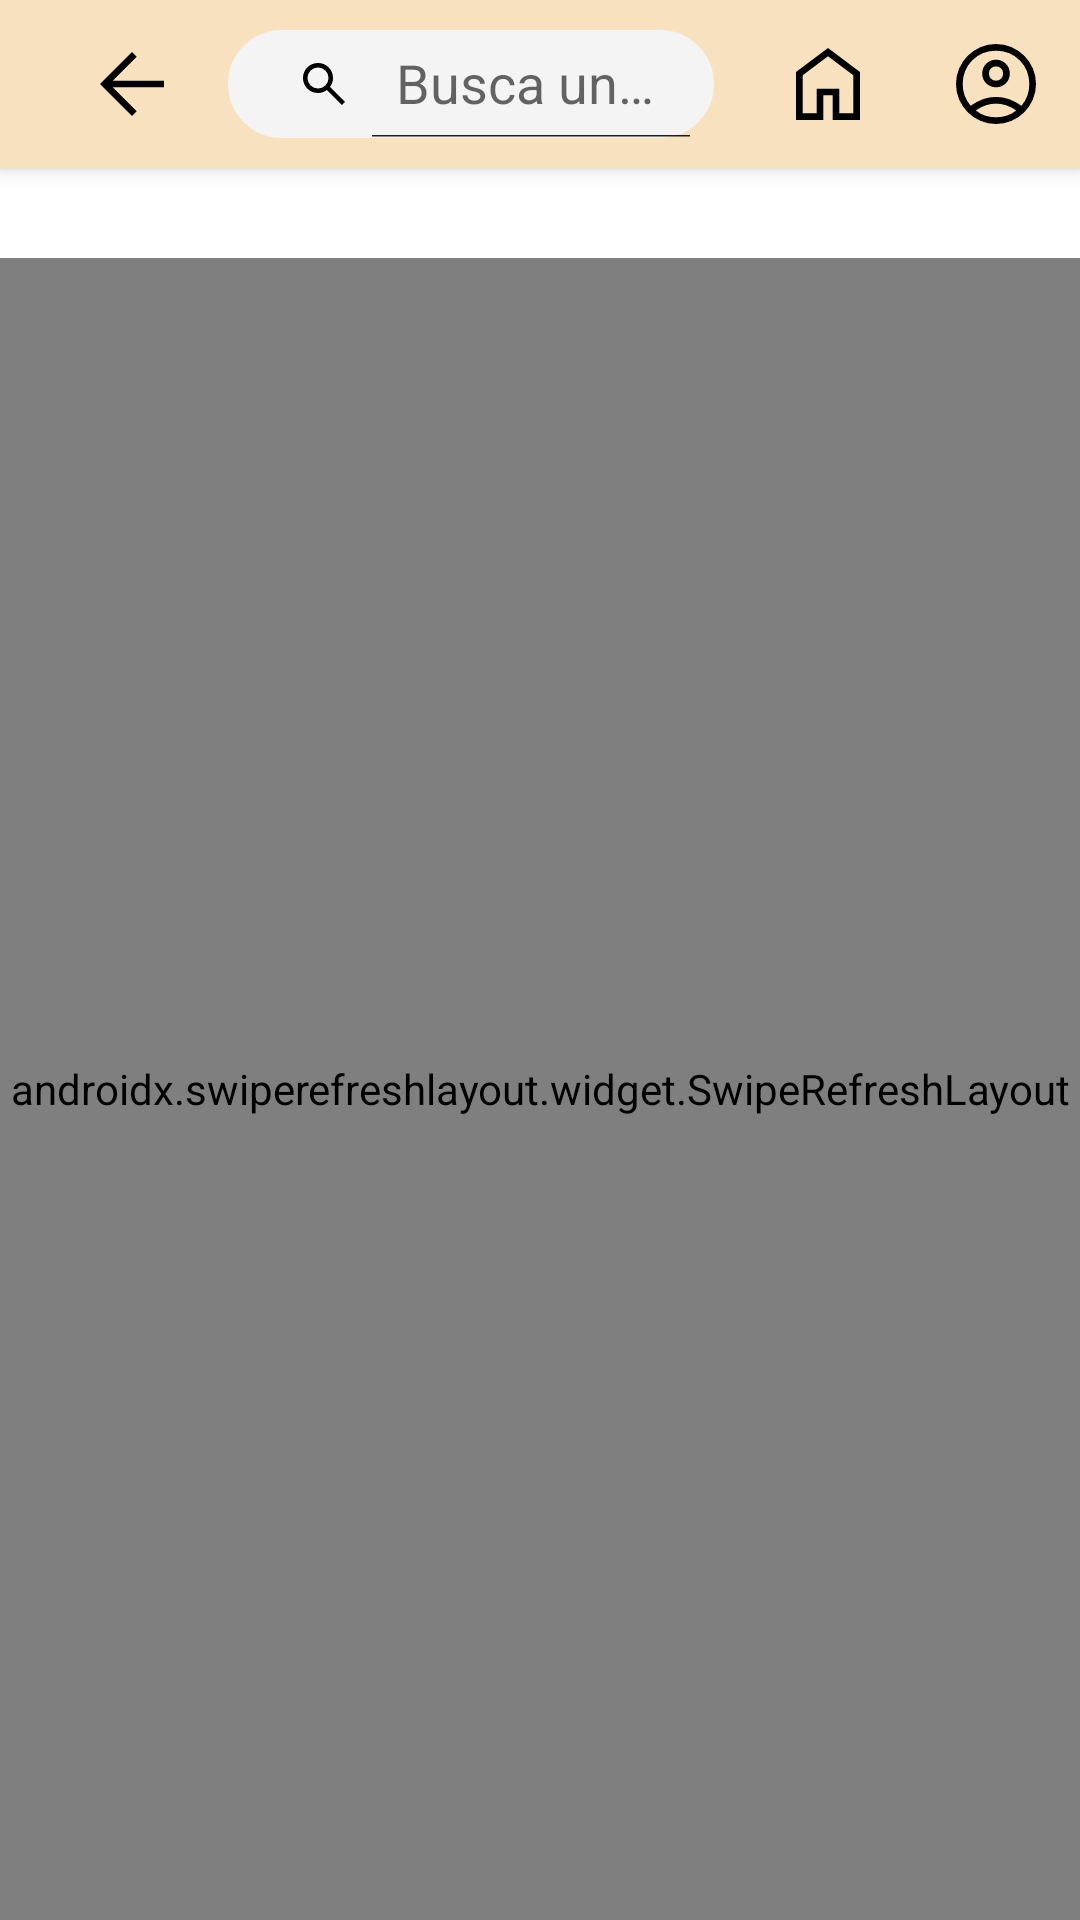

Locate icon controls on the screen. Image size 1080*1920, boxes as box=[x1, y1, x2, y2].
back: box=[100, 52, 164, 116]
